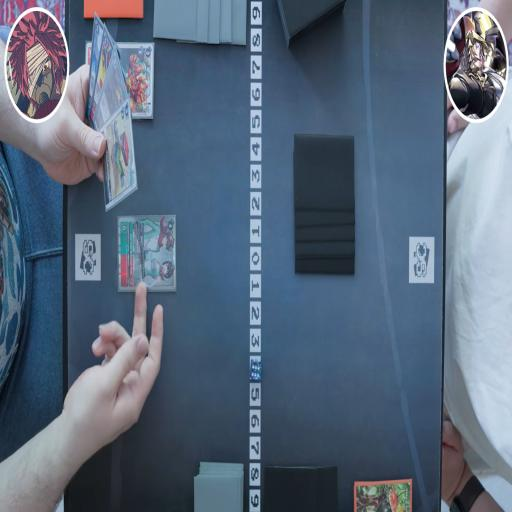card: (98, 102, 145, 216), (117, 210, 177, 294), (94, 47, 131, 133), (114, 42, 156, 117), (89, 26, 116, 123), (86, 14, 106, 122)
